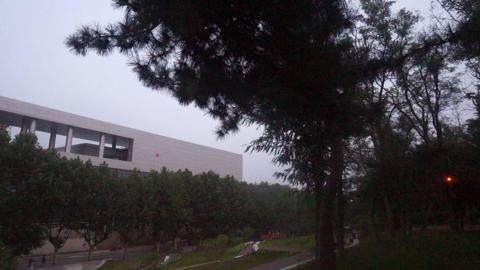UAV: (155, 152, 161, 157)
